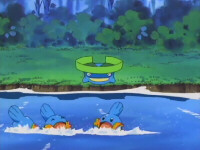mudkip: (94, 98, 126, 134), (41, 100, 73, 134), (5, 103, 39, 133)
